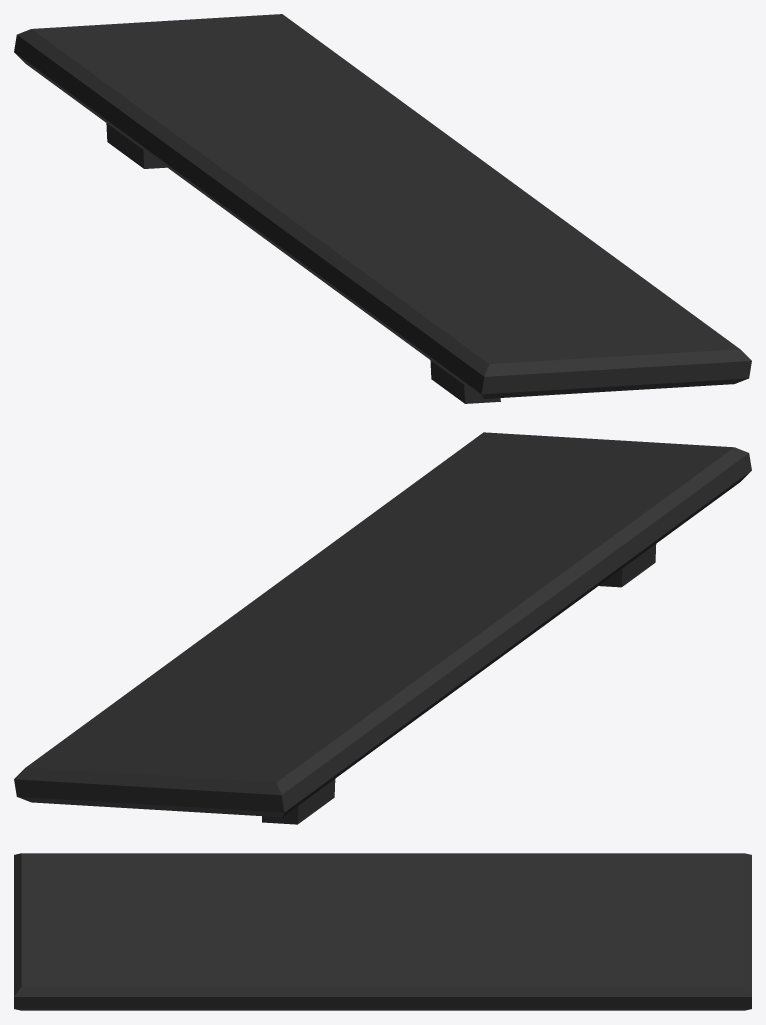
Rendered from Obj_Keyboard.fbx.
3 renders of one model, top to bottom at view 1: azimuth 30°, elevation 25°; view 2: azimuth 150°, elevation 25°; view 3: azimuth 270°, elevation 25°, orthographic. The views are drawn at different scales.
Visible parts, largest first — view 1: Obj_Keybaord; view 2: Obj_Keybaord; view 3: Obj_Keybaord.
Boxes of the visible parts, <box> form: Obj_Keybaord: <box>14,14,751,403</box>; Obj_Keybaord: <box>14,432,751,824</box>; Obj_Keybaord: <box>14,853,751,1010</box>.
Bounding box in the file's own units: 0.2538 × 0.0815 × 0.76.
